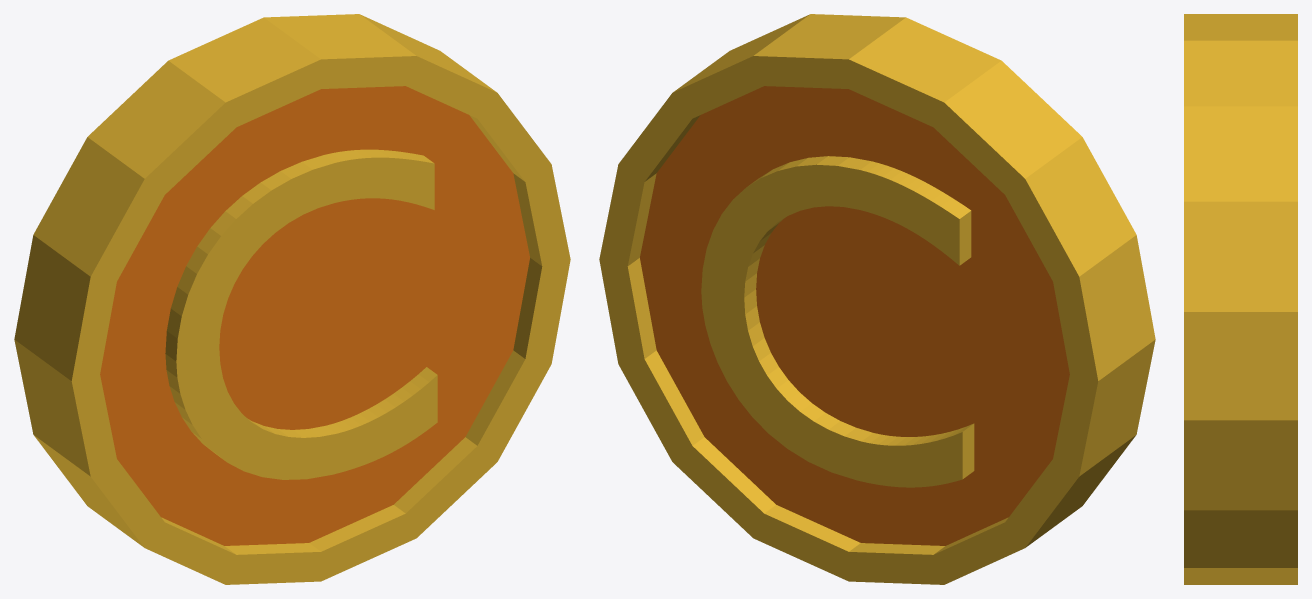
Rendered from coin04.fbx.
The picture shows the model from 3 angles, left to right: view 1: azimuth 30°, elevation 25°; view 2: azimuth 150°, elevation 25°; view 3: azimuth 270°, elevation 25°; orthographic projection.
Parts seen in each view (by area): view 1: Coin04; view 2: Coin04; view 3: Coin04.
Boxes of the visible parts, left/top/right/bottom form: Coin04: left=14, top=14, right=570, bottom=584; Coin04: left=599, top=14, right=1155, bottom=584; Coin04: left=1184, top=14, right=1297, bottom=584.
Size of the model in its own units: 84.1 by 84.1 by 16.74.
